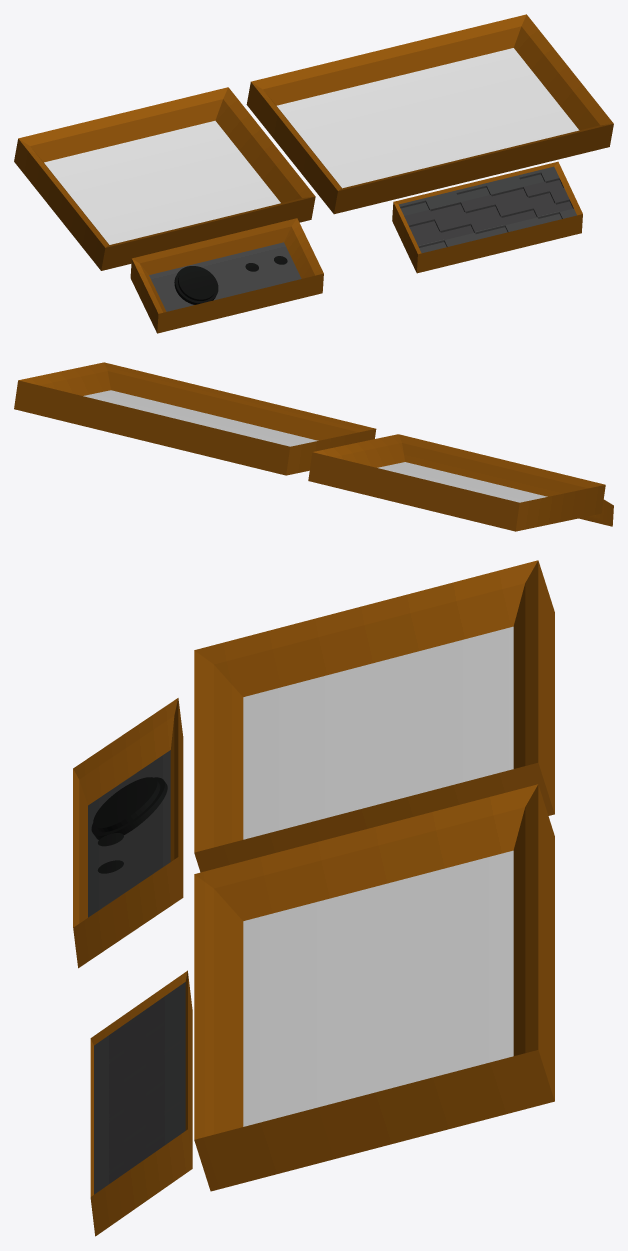
File: SM_DisplayBox.fbx
The picture shows the model from 3 angles, top to bottom: view 1: azimuth 30°, elevation 25°; view 2: azimuth 150°, elevation 25°; view 3: azimuth 270°, elevation 25°; orthographic projection. The views are drawn at different scales.
Parts seen in each view (by area): view 1: display_box; view 2: display_box; view 3: display_box.
Boxes of the visible parts, x1,y1,x2,y2 form: display_box: (14,14,613,333); display_box: (14,362,613,531); display_box: (73,560,554,1236).
Size of the model in its own units: 19.49 by 4.49 by 8.11.
